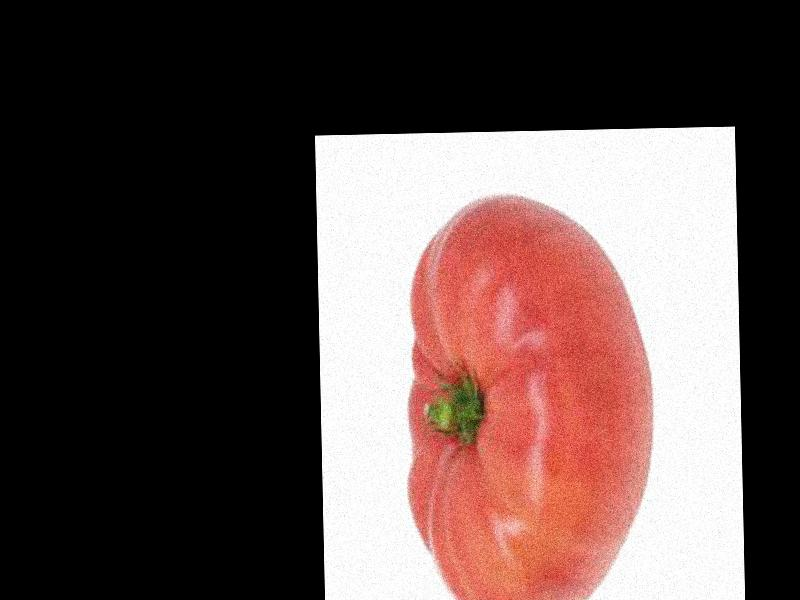Tomato: (407, 193, 655, 600)
